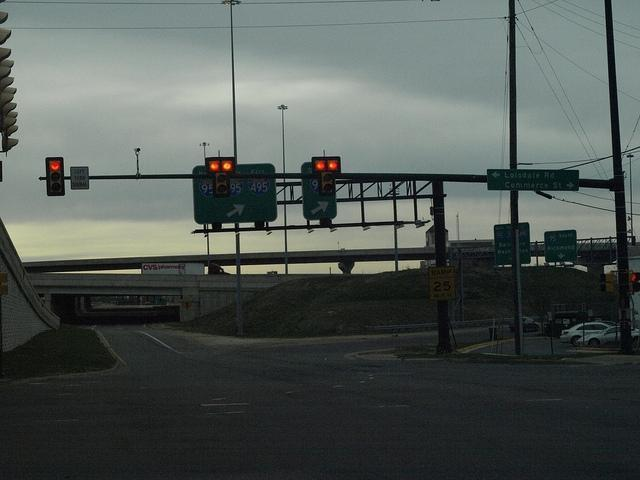car: (560, 322, 610, 346), (587, 326, 640, 348), (508, 316, 539, 331)
